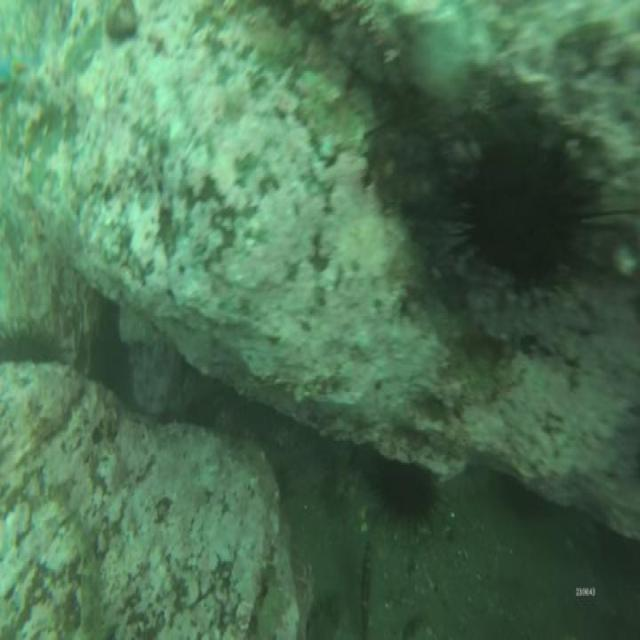echinus: (462, 122, 588, 296), (370, 448, 437, 536)
starfish: (0, 50, 37, 93)
